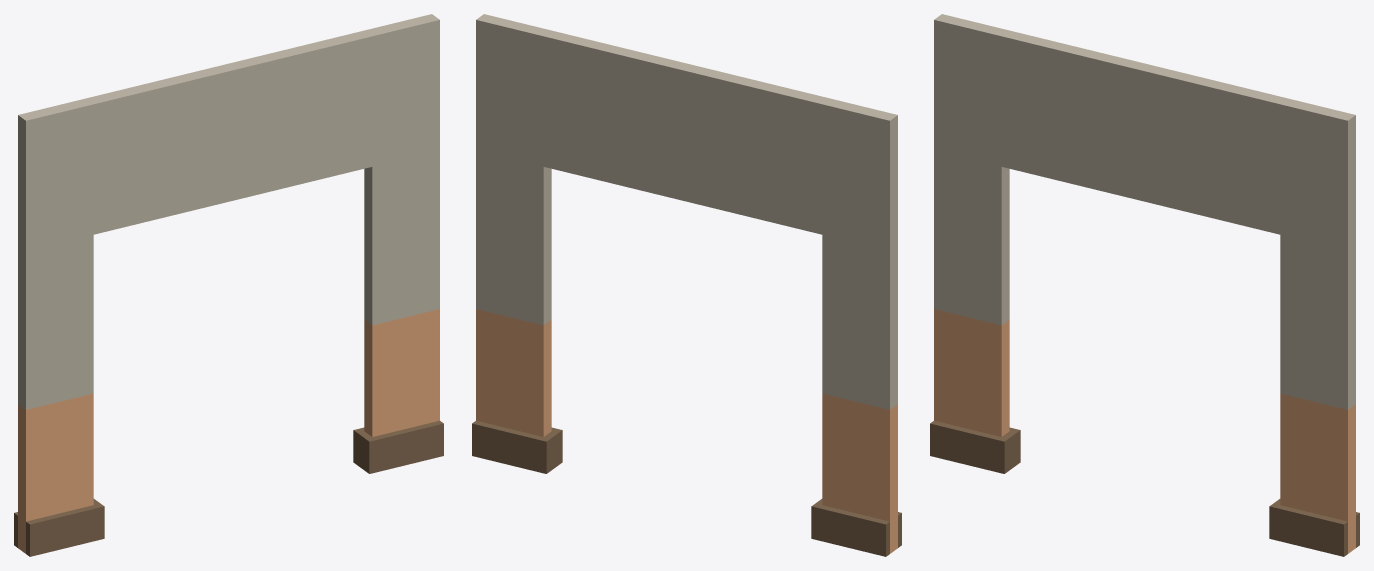
Rendered from Mesh_WallBaseboard2Colors_C5.fbx.
3 views of the same model, side by side, from view 1: azimuth 30°, elevation 25°; view 2: azimuth 150°, elevation 25°; view 3: azimuth 330°, elevation 25° (orthographic).
Parts seen in each view (by area): view 1: Mesh_WallBaseboard2Colors_C5; view 2: Mesh_WallBaseboard2Colors_C5; view 3: Mesh_WallBaseboard2Colors_C5.
Part boxes in pixels (box(x1,y1,x2,y2)): Mesh_WallBaseboard2Colors_C5: box(14, 14, 443, 556); Mesh_WallBaseboard2Colors_C5: box(472, 14, 901, 556); Mesh_WallBaseboard2Colors_C5: box(930, 14, 1359, 556).
Size of the model in its own units: 3 by 3 by 0.2.
